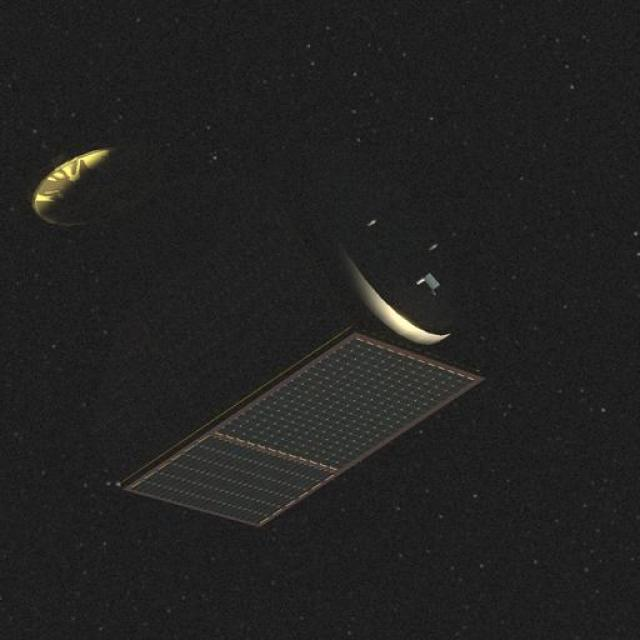cheops: (26, 142, 428, 496)
